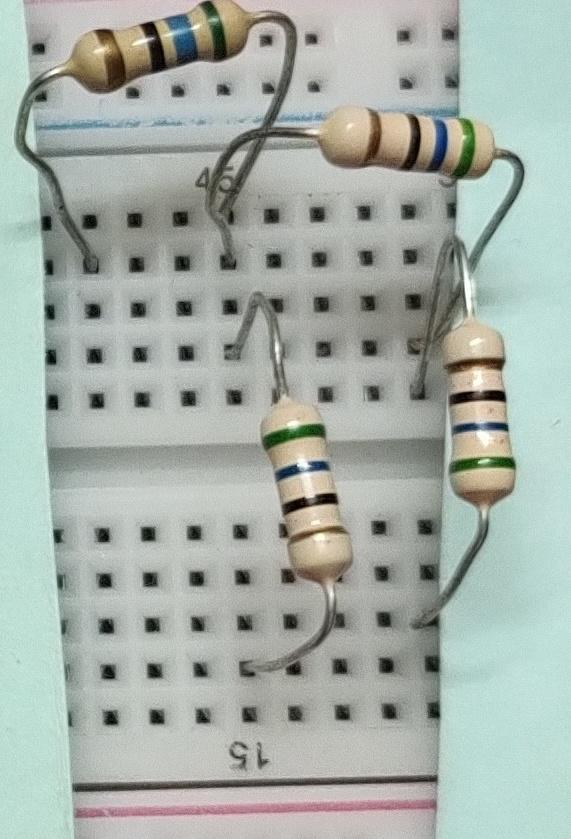resistor: (250, 380, 376, 597), (429, 314, 536, 527), (64, 0, 266, 105), (310, 100, 505, 184)
